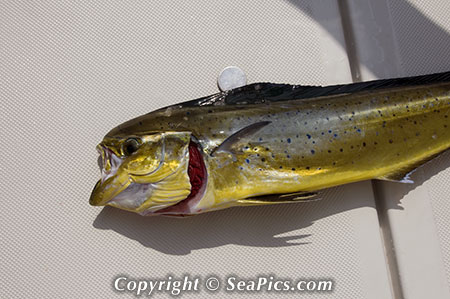fish: (84, 63, 450, 224)
